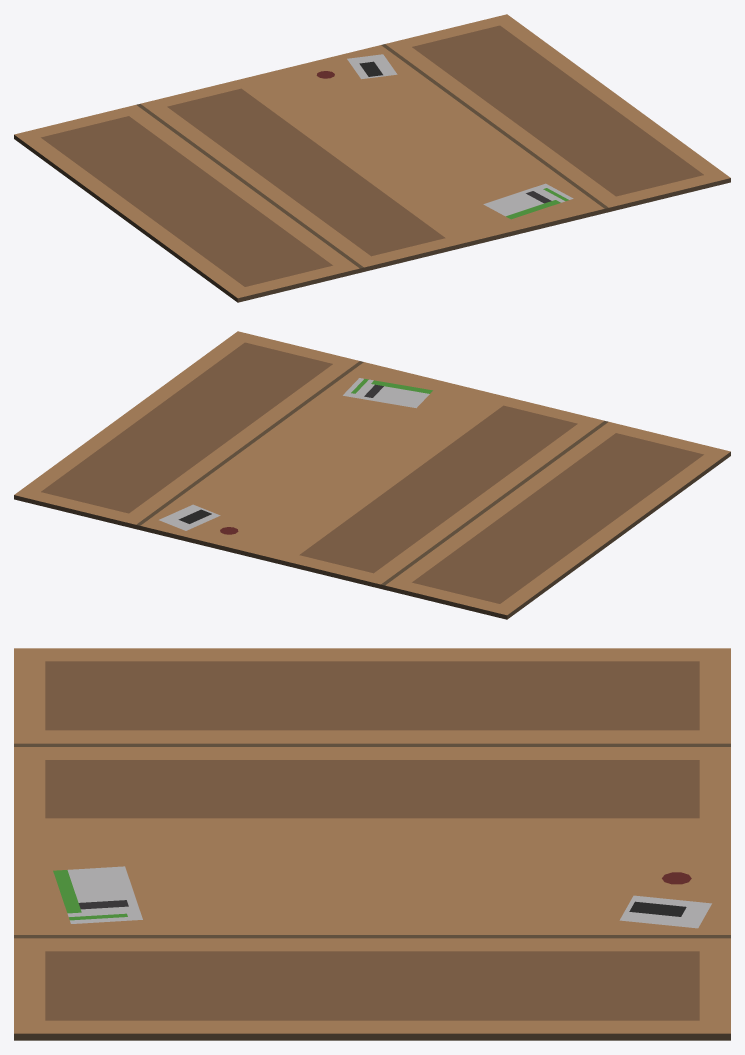
Rendered from SM_carton_flat.gltf.
The picture shows the model from 3 angles, top to bottom: view 1: azimuth 30°, elevation 25°; view 2: azimuth 150°, elevation 25°; view 3: azimuth 270°, elevation 25°; orthographic projection. The views are drawn at different scales.
Visible parts, largest first — view 1: SM_carton_flat; view 2: SM_carton_flat; view 3: SM_carton_flat.
Boxes of the visible parts, box(x1,y1,x2,y2) form: SM_carton_flat: box(14, 14, 730, 302); SM_carton_flat: box(14, 331, 730, 619); SM_carton_flat: box(14, 648, 730, 1040).
Bounding box in the file's own units: 1.12 × 0.0103 × 0.8774.
Materials: 1 (1 with a texture image).
